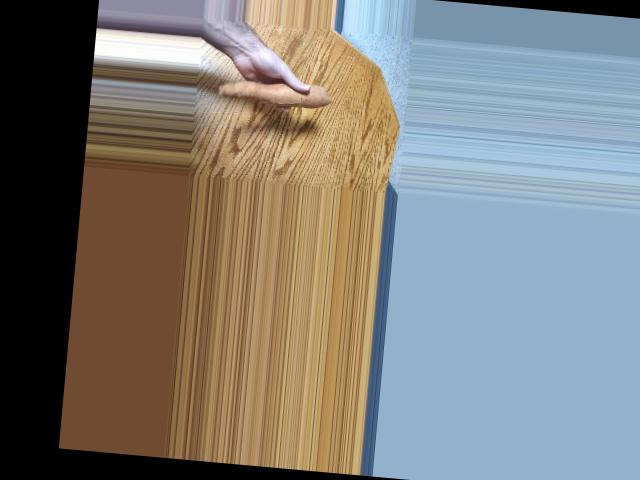sweet_potato: (217, 71, 327, 113)
